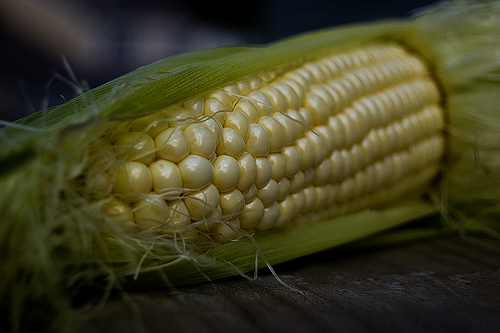corn: (79, 44, 444, 258)
